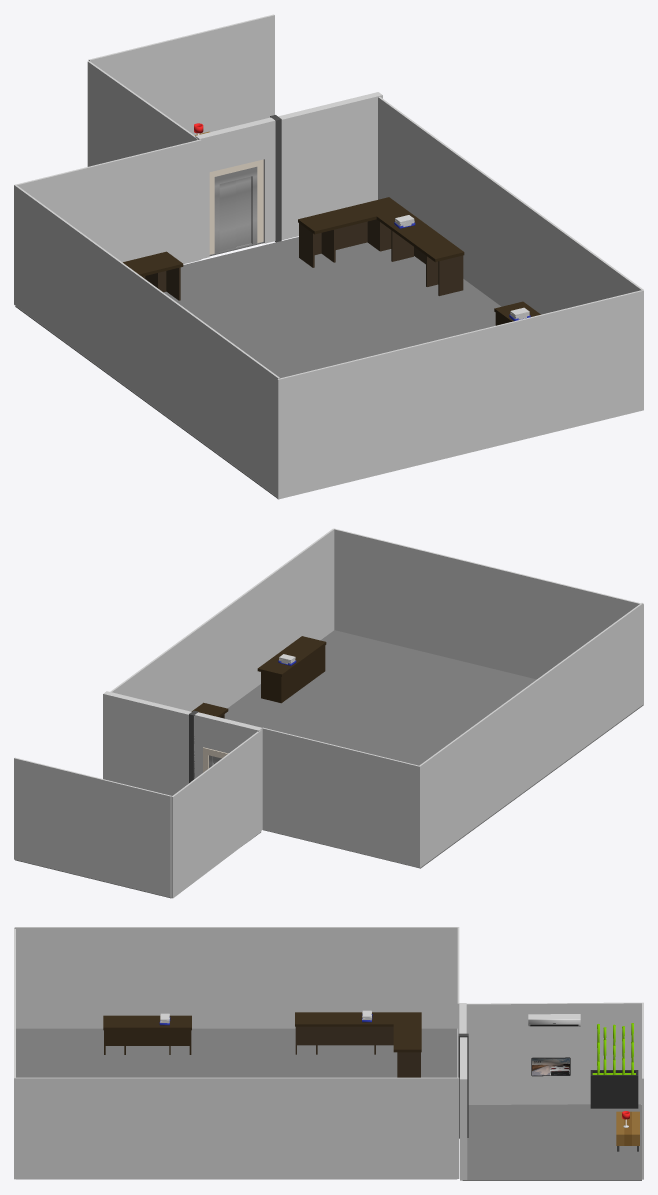
File: onboarding.gltf
The picture shows the model from 3 angles, top to bottom: view 1: azimuth 30°, elevation 25°; view 2: azimuth 150°, elevation 25°; view 3: azimuth 270°, elevation 25°; orthographic projection. The views are drawn at different scales.
Parts seen in each view (by area): view 1: Wall_Small006, Wall_Small004, Floor002, Wall_Small005, Wall_Small002, Wall_Small001, Wall_Standard001, Office_Desk_4_Two_Alt002, Wall_Small003, Wall_Standard_Door001, right-door_Cube001, Office_Desk_4_Two_Alt001 (+3 smaller); view 2: Wall_Small006, Wall_Small004, Floor002, Wall_Small005, Wall_Small001, Wall_Small002, Wall_Small003, Wall_Standard001, Office_Desk_3_Alt002, Wall_Standard_Door001; view 3: Wall_Small005, Wall_Small004, Floor002, Wall_Small003, Floor001, Office_Desk_4_Two_Alt001, Office_Desk_3_Alt001, Nature_Deco001, Wall_Standard001, CoffeeTable001, Nature_Deco_Bamboo1001, AirConditioner_A001 (+4 smaller).
Boxes of the visible parts, x1,y1,x2,y2 form: Wall_Small006: [277, 290, 643, 499]; Wall_Small004: [14, 184, 279, 496]; Floor002: [15, 237, 501, 497]; Wall_Small005: [378, 96, 643, 314]; Wall_Small002: [16, 139, 201, 264]; Wall_Small001: [88, 14, 274, 134]; Wall_Standard001: [275, 92, 382, 241]; Office_Desk_4_Two_Alt002: [298, 197, 464, 295]; Wall_Small003: [87, 61, 197, 166]; Wall_Standard_Door001: [195, 117, 275, 258]; right-door_Cube001: [219, 176, 251, 251]; Office_Desk_4_Two_Alt001: [123, 251, 183, 300]; Wall_Small006: [334, 528, 643, 705]; Wall_Small004: [418, 603, 643, 867]; Floor002: [224, 630, 642, 868]; Wall_Small005: [110, 528, 334, 711]; Wall_Small001: [14, 757, 171, 897]; Wall_Small002: [262, 727, 418, 867]; Wall_Small003: [171, 730, 261, 898]; Wall_Standard001: [103, 691, 194, 796]; Office_Desk_3_Alt002: [257, 636, 326, 703]; Wall_Standard_Door001: [194, 712, 262, 830]; Wall_Small005: [15, 1077, 459, 1178]; Wall_Small004: [14, 927, 459, 1028]; Floor002: [16, 1028, 457, 1179]; Wall_Small003: [466, 1002, 641, 1104]; Floor001: [462, 1104, 641, 1180]; Office_Desk_4_Two_Alt001: [295, 1012, 421, 1077]; Office_Desk_3_Alt001: [103, 1015, 191, 1054]; Nature_Deco001: [590, 1070, 638, 1108]; Wall_Standard001: [460, 1037, 467, 1180]; CoffeeTable001: [616, 1111, 639, 1151]; Nature_Deco_Bamboo1001: [597, 1023, 633, 1074]; AirConditioner_A001: [528, 1014, 580, 1026].
Size of the model in its own units: 9.63 by 3.11 by 16.88.
6 materials, 5 textured.
